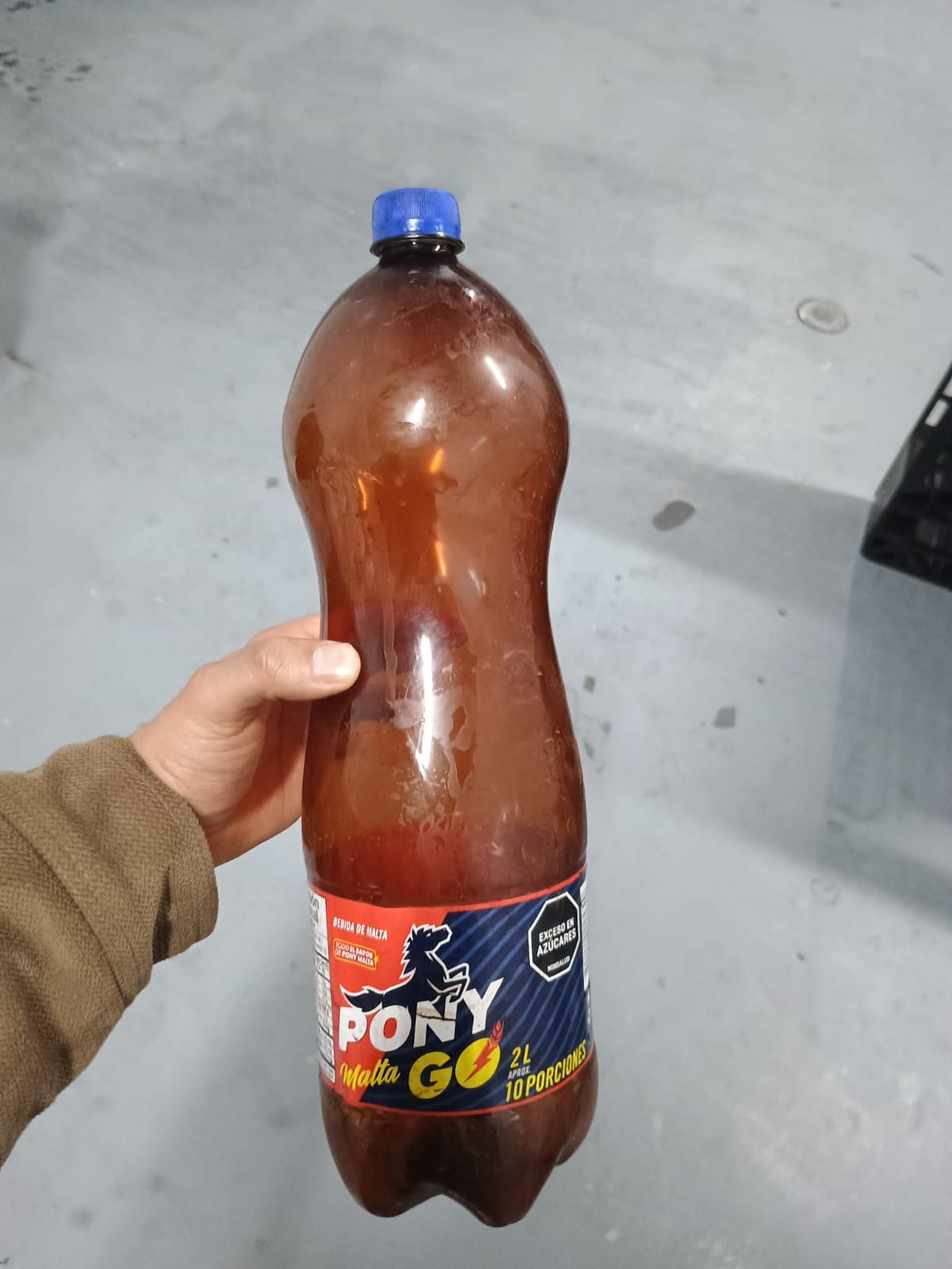Plastico: (281, 186, 602, 1227)
